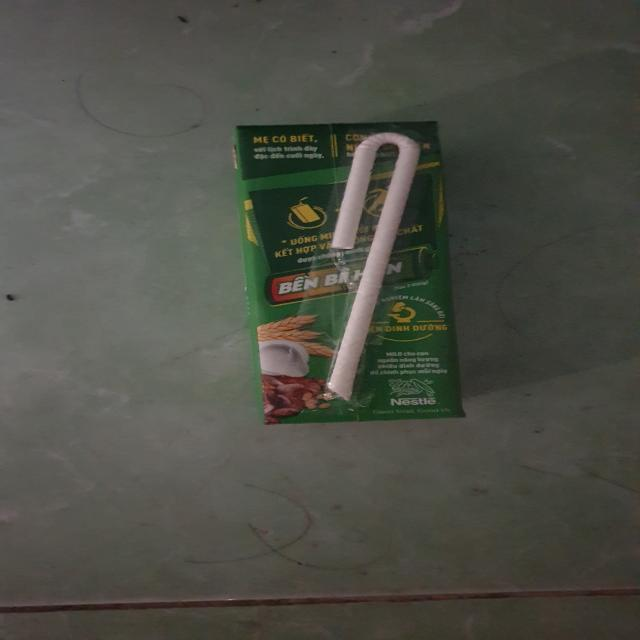Milo: (235, 120, 458, 422)
